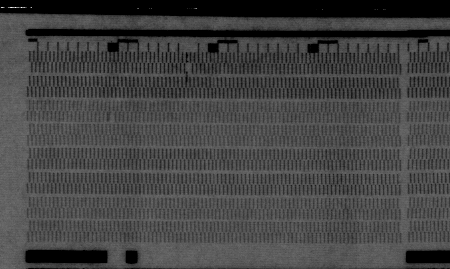Oblique printing: (183, 62, 194, 79), (106, 111, 116, 125)
